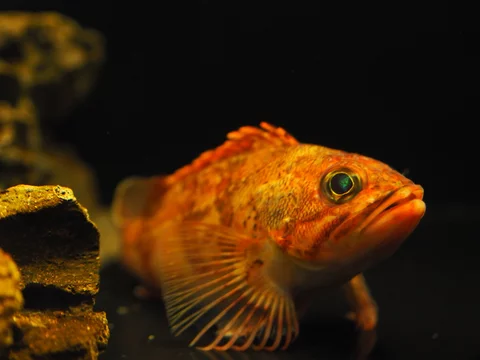Rock Fish: (95, 125, 462, 360)
